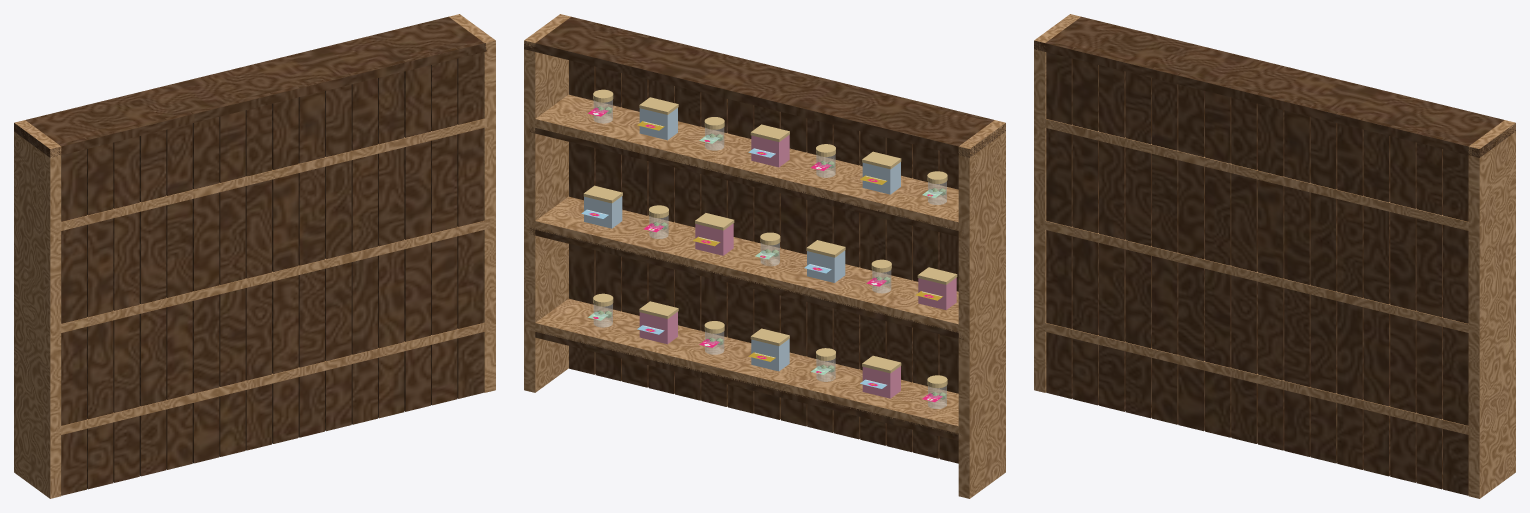
Rendered from wall_shelf.glb.
3 views of the same model, side by side, from view 1: azimuth 30°, elevation 25°; view 2: azimuth 150°, elevation 25°; view 3: azimuth 330°, elevation 25° (orthographic).
Parts seen in each view (by area): view 1: shelf_hd_darkwood, shelf_hd_oak; view 2: shelf_hd_darkwood, shelf_hd_oak, shelf_hd_gold, shelf_hd_pink, shelf_hd_babyblue, shelf_hd_jarglass, shelf_hd_nug, shelf_hd_slabel_northern, shelf_hd_slabel_soon, shelf_hd_slabel_thai, shelf_hd_slabel_maui; view 3: shelf_hd_darkwood, shelf_hd_oak.
Boxes of the visible parts, x1,y1,x2,y2 form: shelf_hd_darkwood: (14, 16, 486, 495); shelf_hd_oak: (14, 14, 495, 498); shelf_hd_darkwood: (524, 16, 1005, 463); shelf_hd_oak: (524, 14, 1005, 498); shelf_hd_gold: (583, 89, 957, 388); shelf_hd_pink: (639, 135, 956, 398); shelf_hd_babyblue: (584, 108, 900, 371); shelf_hd_jarglass: (593, 100, 946, 408); shelf_hd_nug: (597, 106, 946, 399); shelf_hd_slabel_northern: (581, 148, 886, 388); shelf_hd_slabel_soon: (637, 121, 942, 361); shelf_hd_slabel_thai: (588, 107, 942, 402); shelf_hd_slabel_maui: (588, 135, 942, 374); shelf_hd_darkwood: (1034, 16, 1515, 495); shelf_hd_oak: (1034, 14, 1515, 498).
Size of the model in its own units: 3.2 by 2.4 by 0.45.
Materials: 12 (6 with a texture image).
